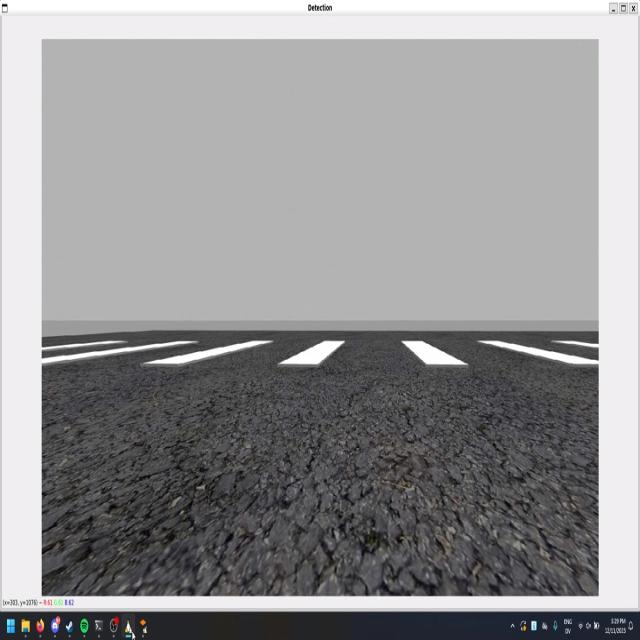crosswalk: (43, 338, 598, 370)
